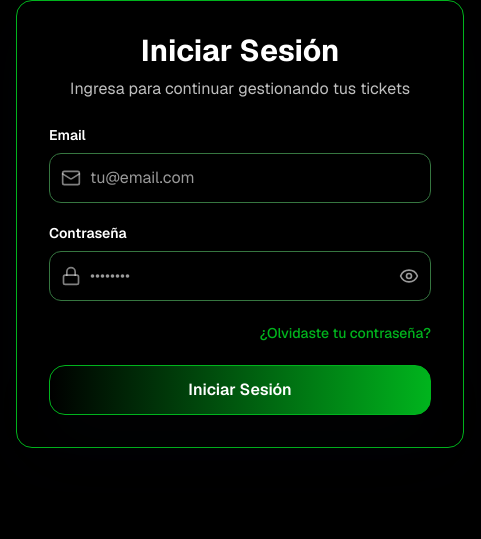
LoginForm › debe mostrar error cuando el login falla
Type "test@example.com" into the field labelled "Email" at (240, 178), box [49,153,431,203]
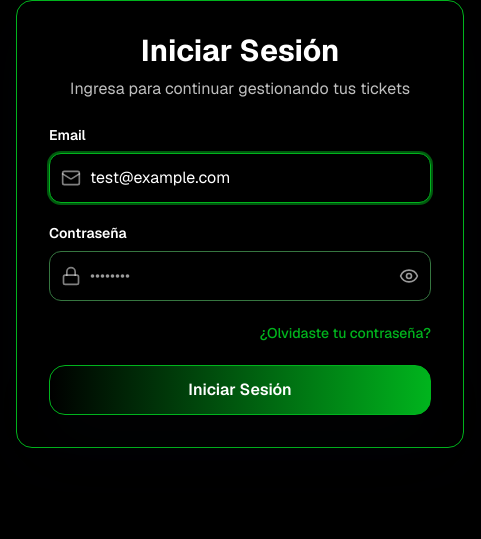
Type "wrongpassword" into the password field labelled "Contraseña" at (240, 276), box [49,251,431,301]
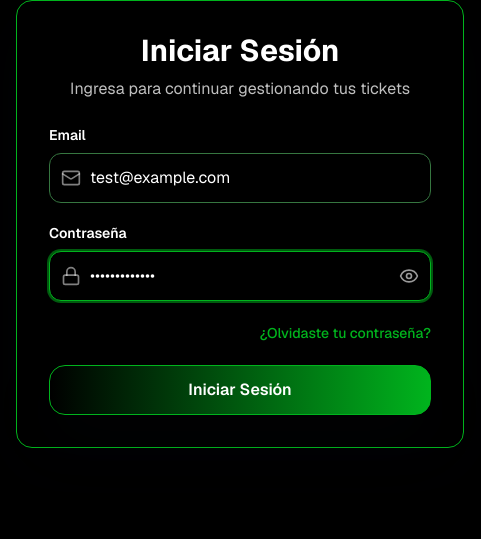
Click the button "Iniciar Sesión" at (240, 390), box [49,365,431,415]
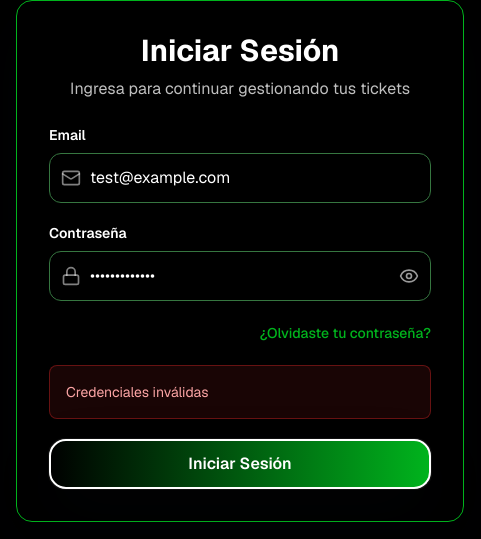
Now the text "Credenciales inválidas" is shown, box [66,383,208,401]
